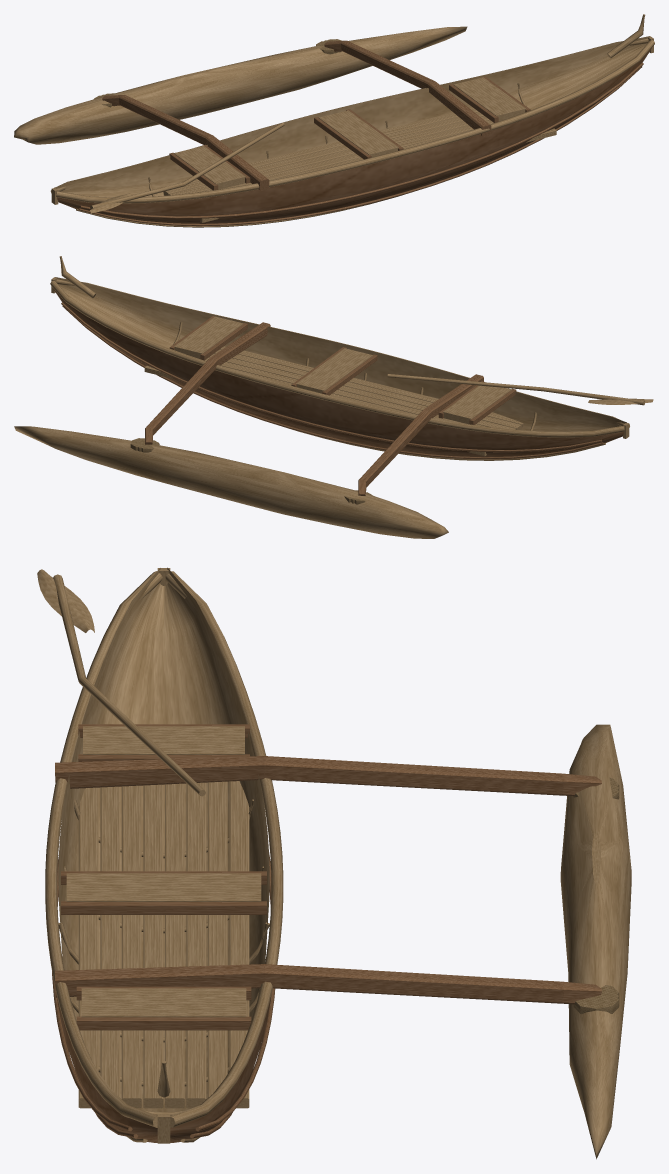
File: outrigger_canoe.glb
The picture shows the model from 3 angles, top to bottom: view 1: azimuth 30°, elevation 25°; view 2: azimuth 150°, elevation 25°; view 3: azimuth 270°, elevation 25°; orthographic projection. The views are drawn at different scales.
Visible parts, largest first — view 1: outrigger_canoe; view 2: outrigger_canoe; view 3: outrigger_canoe.
Part boxes in pixels (left/top/right/bottom): outrigger_canoe: left=14, top=14, right=654, bottom=227; outrigger_canoe: left=14, top=256, right=653, bottom=538; outrigger_canoe: left=37, top=567, right=631, bottom=1159.
Bounding box in the file's own units: 4.8 × 0.85 × 2.15.
1 material, 1 textured.
